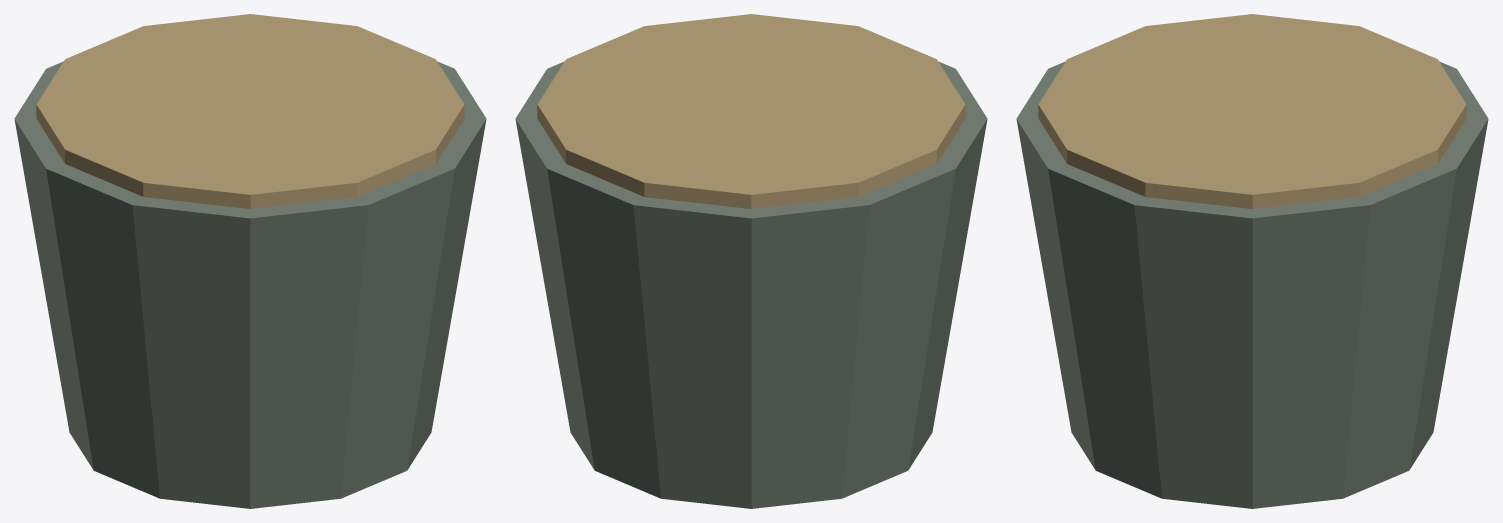
The model's file is ZO_FeedBucket.glb.
The picture shows the model from 3 angles, left to right: view 1: azimuth 30°, elevation 25°; view 2: azimuth 150°, elevation 25°; view 3: azimuth 270°, elevation 25°; orthographic projection.
Parts seen in each view (by area): view 1: ZO_FeedBucket; view 2: ZO_FeedBucket; view 3: ZO_FeedBucket.
Boxes of the visible parts, box(x1,y1,x2,y2) form: ZO_FeedBucket: box(14, 14, 486, 508); ZO_FeedBucket: box(515, 14, 987, 508); ZO_FeedBucket: box(1016, 14, 1488, 508).
Bounding box in the file's own units: 3 × 2.3 × 3.
Materials: 1 (1 with a texture image).
